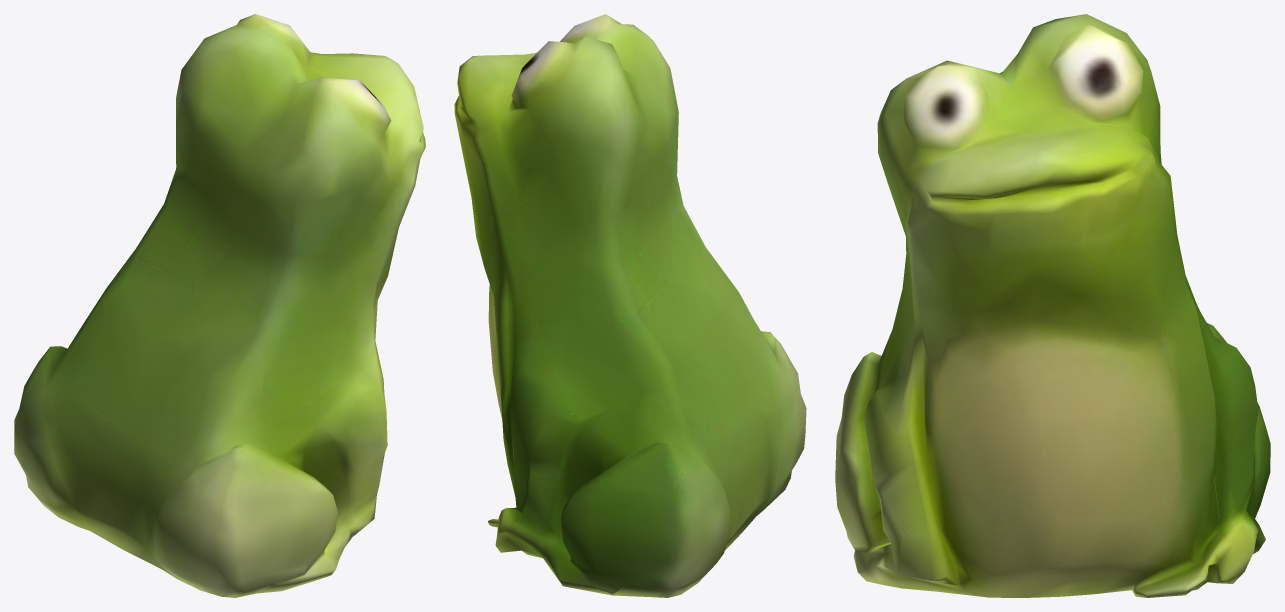
File: frog.glb
3 views of the same model, side by side, from view 1: azimuth 30°, elevation 25°; view 2: azimuth 150°, elevation 25°; view 3: azimuth 270°, elevation 25° (orthographic). The views are drawn at different scales.
Visible parts, largest first — view 1: tripo_node_01a21ca5-ada9-7a08-99de-937d3cde08c1; view 2: tripo_node_01a21ca5-ada9-7a08-99de-937d3cde08c1; view 3: tripo_node_01a21ca5-ada9-7a08-99de-937d3cde08c1.
Boxes of the visible parts, <box> form: tripo_node_01a21ca5-ada9-7a08-99de-937d3cde08c1: <box>14,14,425,597</box>; tripo_node_01a21ca5-ada9-7a08-99de-937d3cde08c1: <box>454,14,806,597</box>; tripo_node_01a21ca5-ada9-7a08-99de-937d3cde08c1: <box>835,14,1270,597</box>.
Size of the model in its own units: 0.2757 by 0.4035 by 0.28.
Materials: 1 (1 with a texture image).
